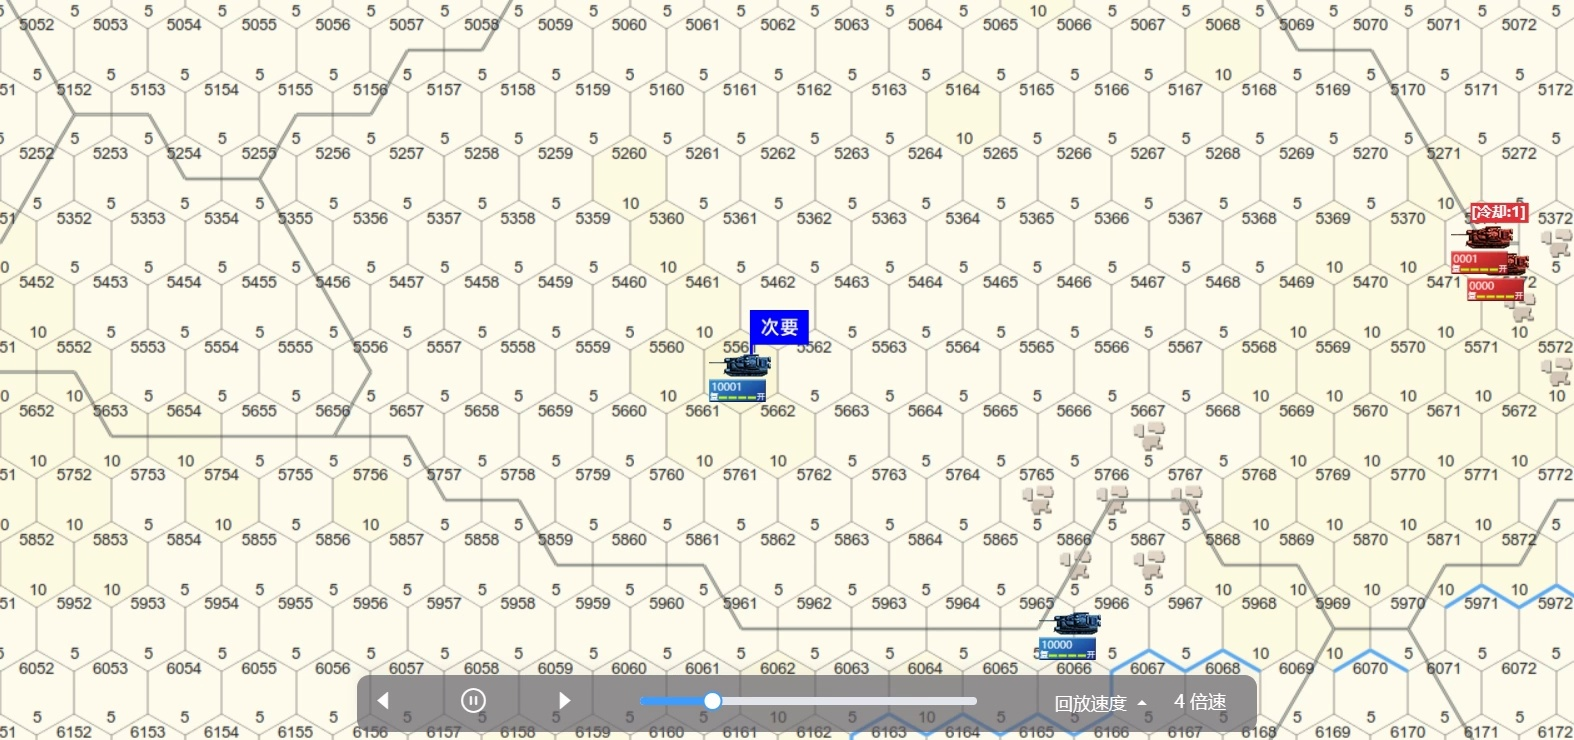blue_tank: (712, 358, 775, 403), (1042, 614, 1103, 659)
red_tank: (1466, 256, 1530, 301), (1456, 225, 1516, 269)
